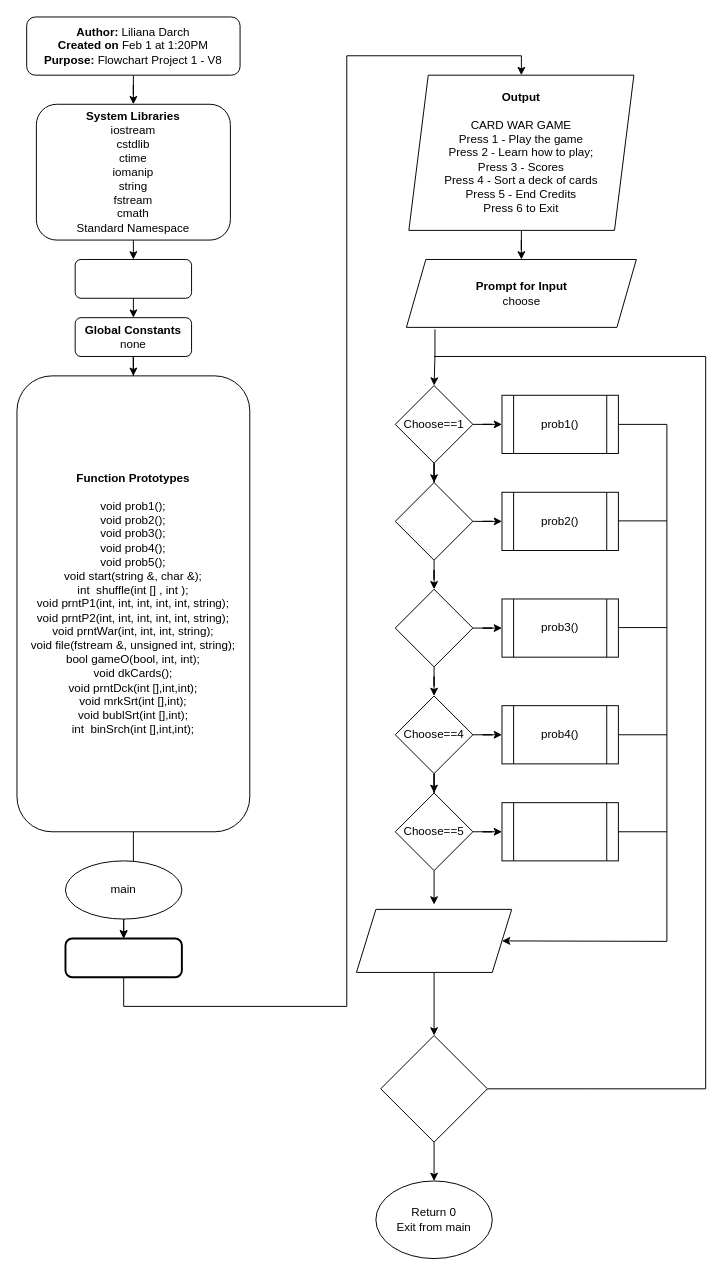
Image size: 724x1276. Some labels were removed from this diagram. Each missing label, with the centre of its shape:
Choose==2: the point at 433,521
Choose==3: the point at 433,627
choose>=1 && choose<=5: the point at 433,1088
Declare variable choose: the point at 123,957
Output Exiting the menu: the point at 434,940
prob5(): the point at 559,831
User Libraries none: the point at 133,278
